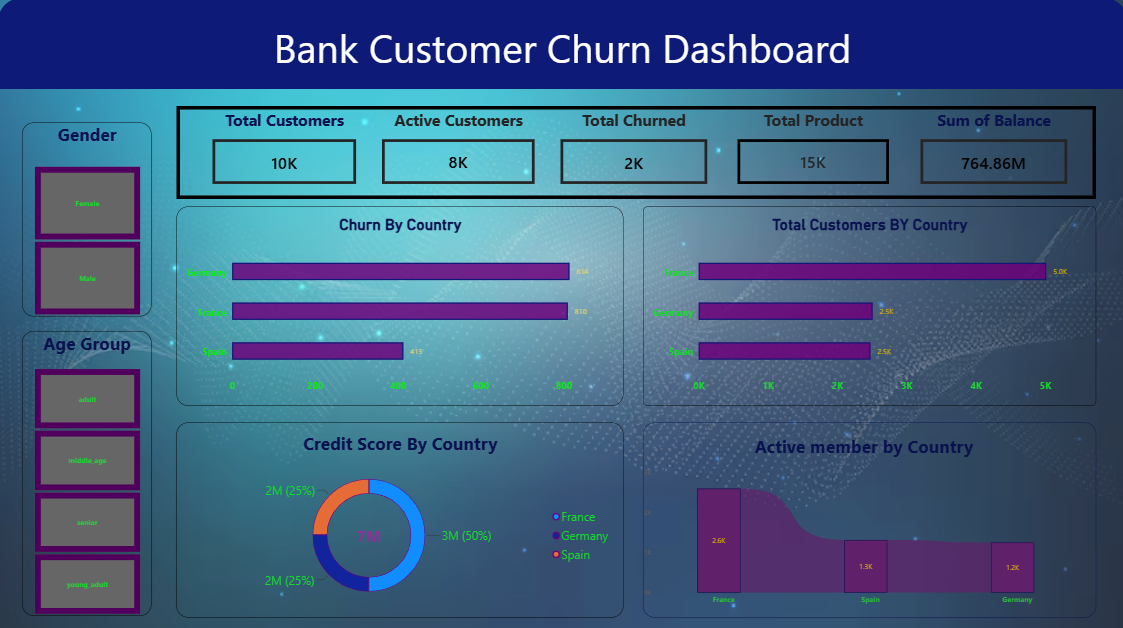

The page's visual inventory and layout, read from the dashboard file:
{"tool":"powerbi","page":{"name":"Page 2","canvas":[1920,1080],"ordinal":1},"visuals":[{"type":"clusteredBarChart","title":"Churn By Country","fields":{"Category":["bank_churn_analysis.country"],"Y":["calculations.Total churned customers"]},"box":[306.6,188.5,758.6,352.1],"z":0},{"type":"clusteredBarChart","title":"Total Customers BY Country","fields":{"Category":["bank_churn_analysis.country"],"Y":["calculations.Total Customers"]},"box":[1081.4,187.9,784.4,352.9],"z":1},{"type":"shape","box":[0,0,1919.2,154.9],"z":2},{"type":"donutChart","title":"Credit Score By Country","fields":{"Category":["bank_churn_analysis.country"],"Y":["Sum(bank_churn_analysis.credit_score)"]},"box":[304.6,589,733.6,462],"z":3},{"type":"slicer","title":"Age Group","fields":{"Values":["bank_churn_analysis.age_group"]},"box":[47.7,567.8,220.3,483.8],"z":4},{"type":"ribbonChart","title":"Active member by Country","fields":{"Category":["bank_churn_analysis.country"],"Y":["Sum(bank_churn_analysis.active_member)"]},"box":[1081.4,589,784.4,462],"z":6},{"type":"slicer","title":"Gender","fields":{"Values":["bank_churn_analysis.gender"]},"box":[47.7,188.5,220.3,329.3],"z":7}]}

Visuals, with their boxes in screenshot pixels (x1, y1, x2, y2), scaled from the page's 1920x1080 canvas onto the 1123x628 screenshot:
"Churn By Country" clusteredBarChart: 179 110 623 314
"Total Customers BY Country" clusteredBarChart: 633 109 1091 314
shape: 0 0 1122 90
"Credit Score By Country" donutChart: 178 342 607 611
"Age Group" slicer: 28 330 157 611
"Active member by Country" ribbonChart: 633 342 1091 611
"Gender" slicer: 28 110 157 301
